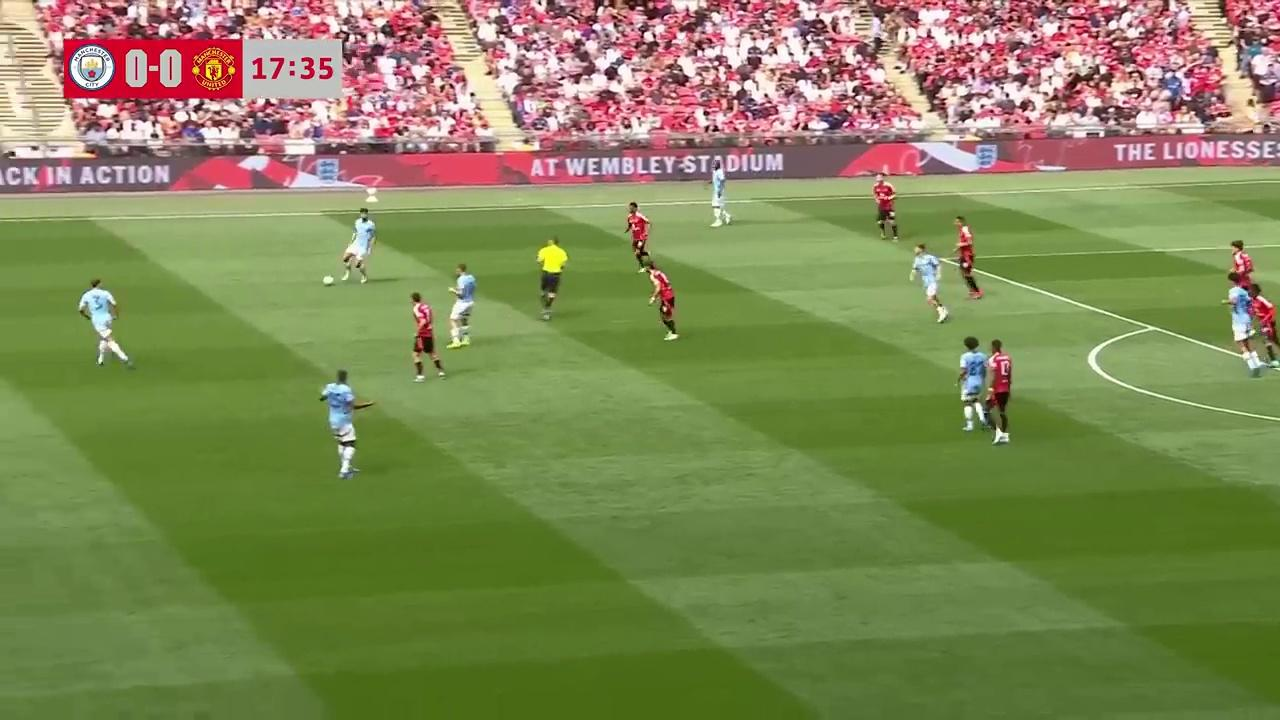ball: (321, 271, 335, 287)
player: (78, 278, 135, 368), (319, 369, 361, 480), (954, 335, 989, 432), (909, 243, 949, 323), (340, 203, 380, 283), (410, 291, 445, 382), (984, 338, 1013, 445), (1226, 282, 1260, 371), (1248, 288, 1279, 372), (952, 216, 983, 299), (647, 262, 678, 340), (450, 264, 476, 344), (1227, 240, 1258, 304), (625, 201, 649, 271), (872, 177, 898, 241), (872, 178, 898, 241), (710, 164, 730, 226)
referee: (536, 236, 567, 319)
